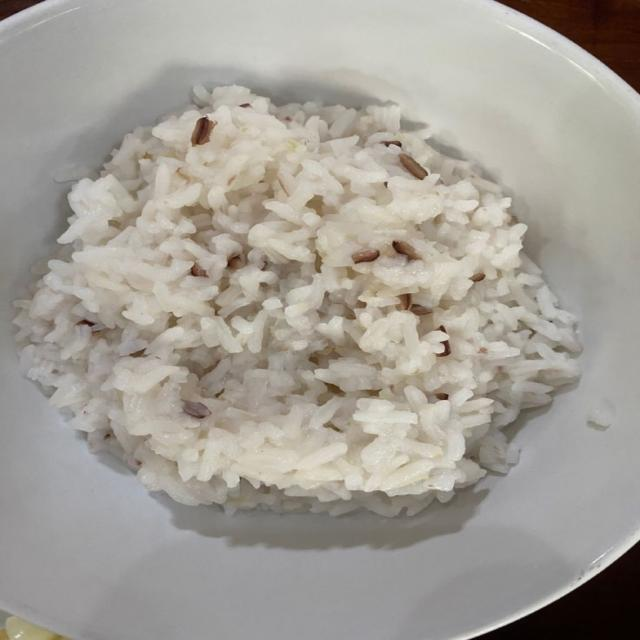rice: (16, 87, 579, 515)
